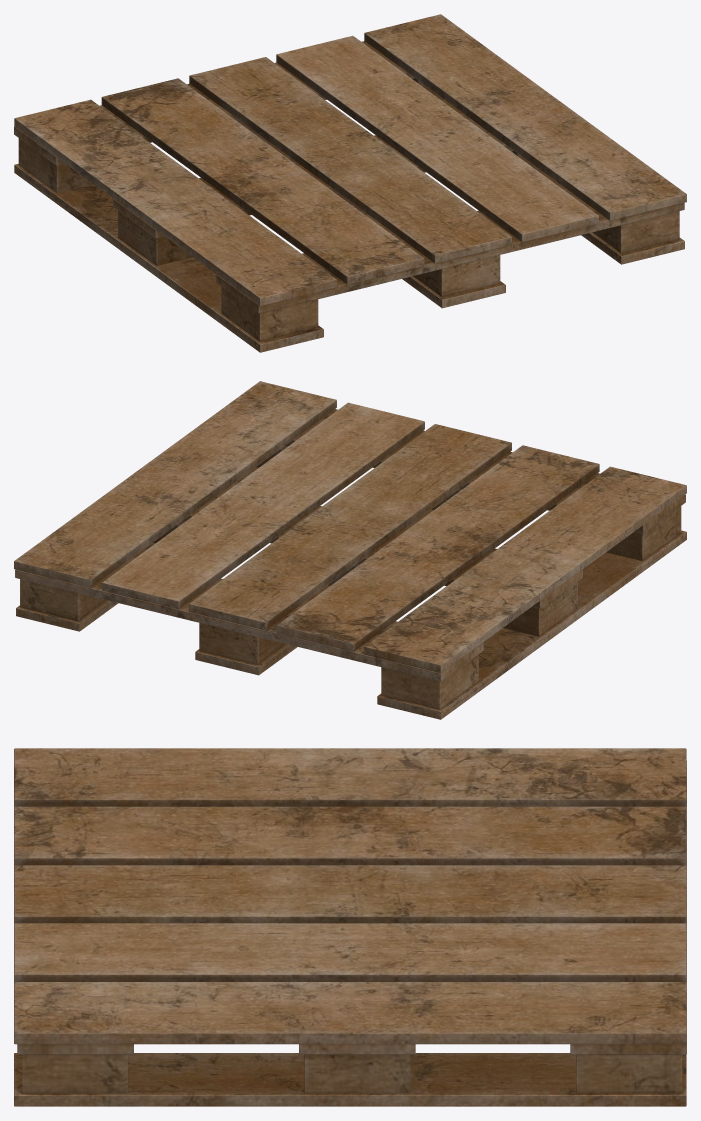
Rendered from Sunoko.glb.
3 views of the same model, one above another, from view 1: azimuth 30°, elevation 25°; view 2: azimuth 150°, elevation 25°; view 3: azimuth 270°, elevation 25° (orthographic). The views are drawn at different scales.
Parts seen in each view (by area): view 1: Sunoko; view 2: Sunoko; view 3: Sunoko.
Boxes of the visible parts, box(x1,y1,x2,y2) form: Sunoko: box(14, 14, 686, 352); Sunoko: box(14, 381, 686, 719); Sunoko: box(14, 748, 686, 1106).
Bounding box in the file's own units: 1.06 × 0.13 × 1.06.
1 material, 1 textured.
